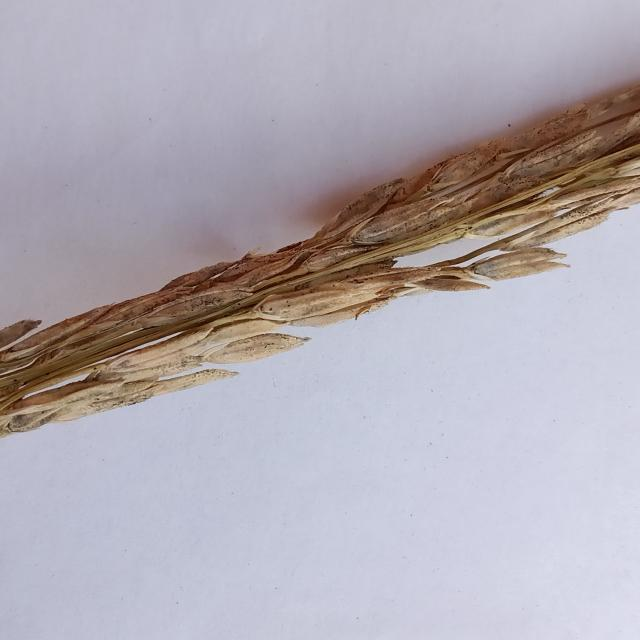Neck_Blast: (3, 90, 640, 434)
